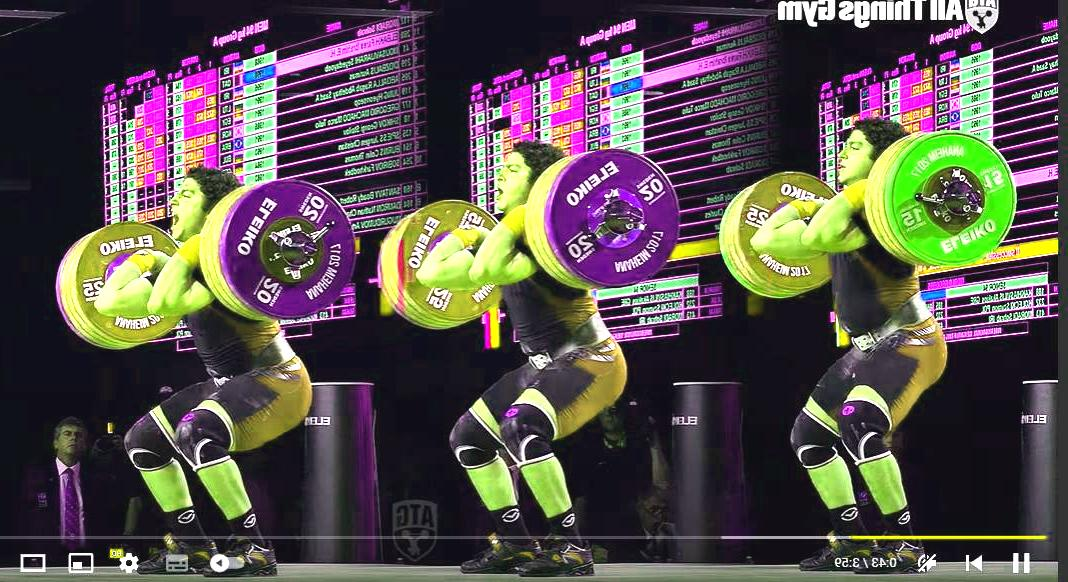Barbell: (619, 203, 647, 227), (961, 183, 986, 208), (295, 236, 319, 259)
